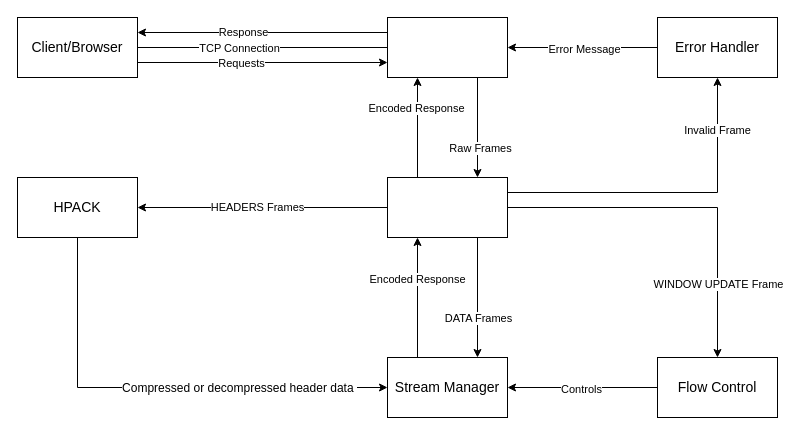
This 800x435 diagram has some shape labels left out. The centre of each missing label's shape, as x and y in pixels:
Connection Handler: point 447,47
Frame Processor: point 447,207
